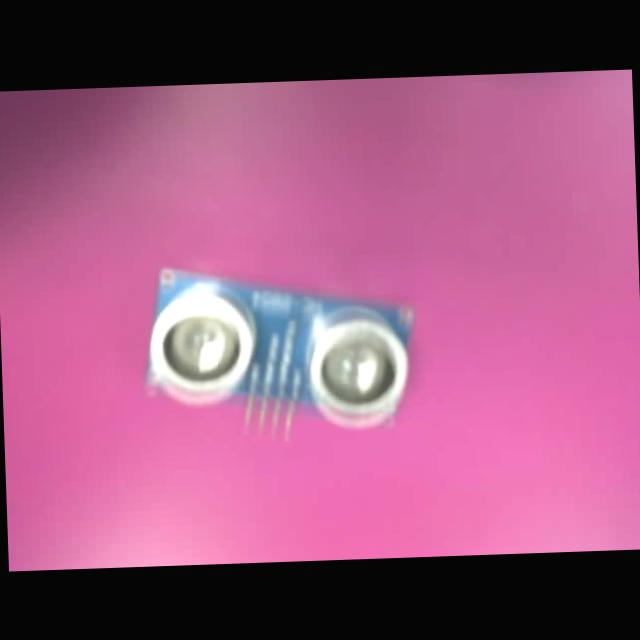ultrasonic_hc-sr04: (142, 260, 416, 445)
